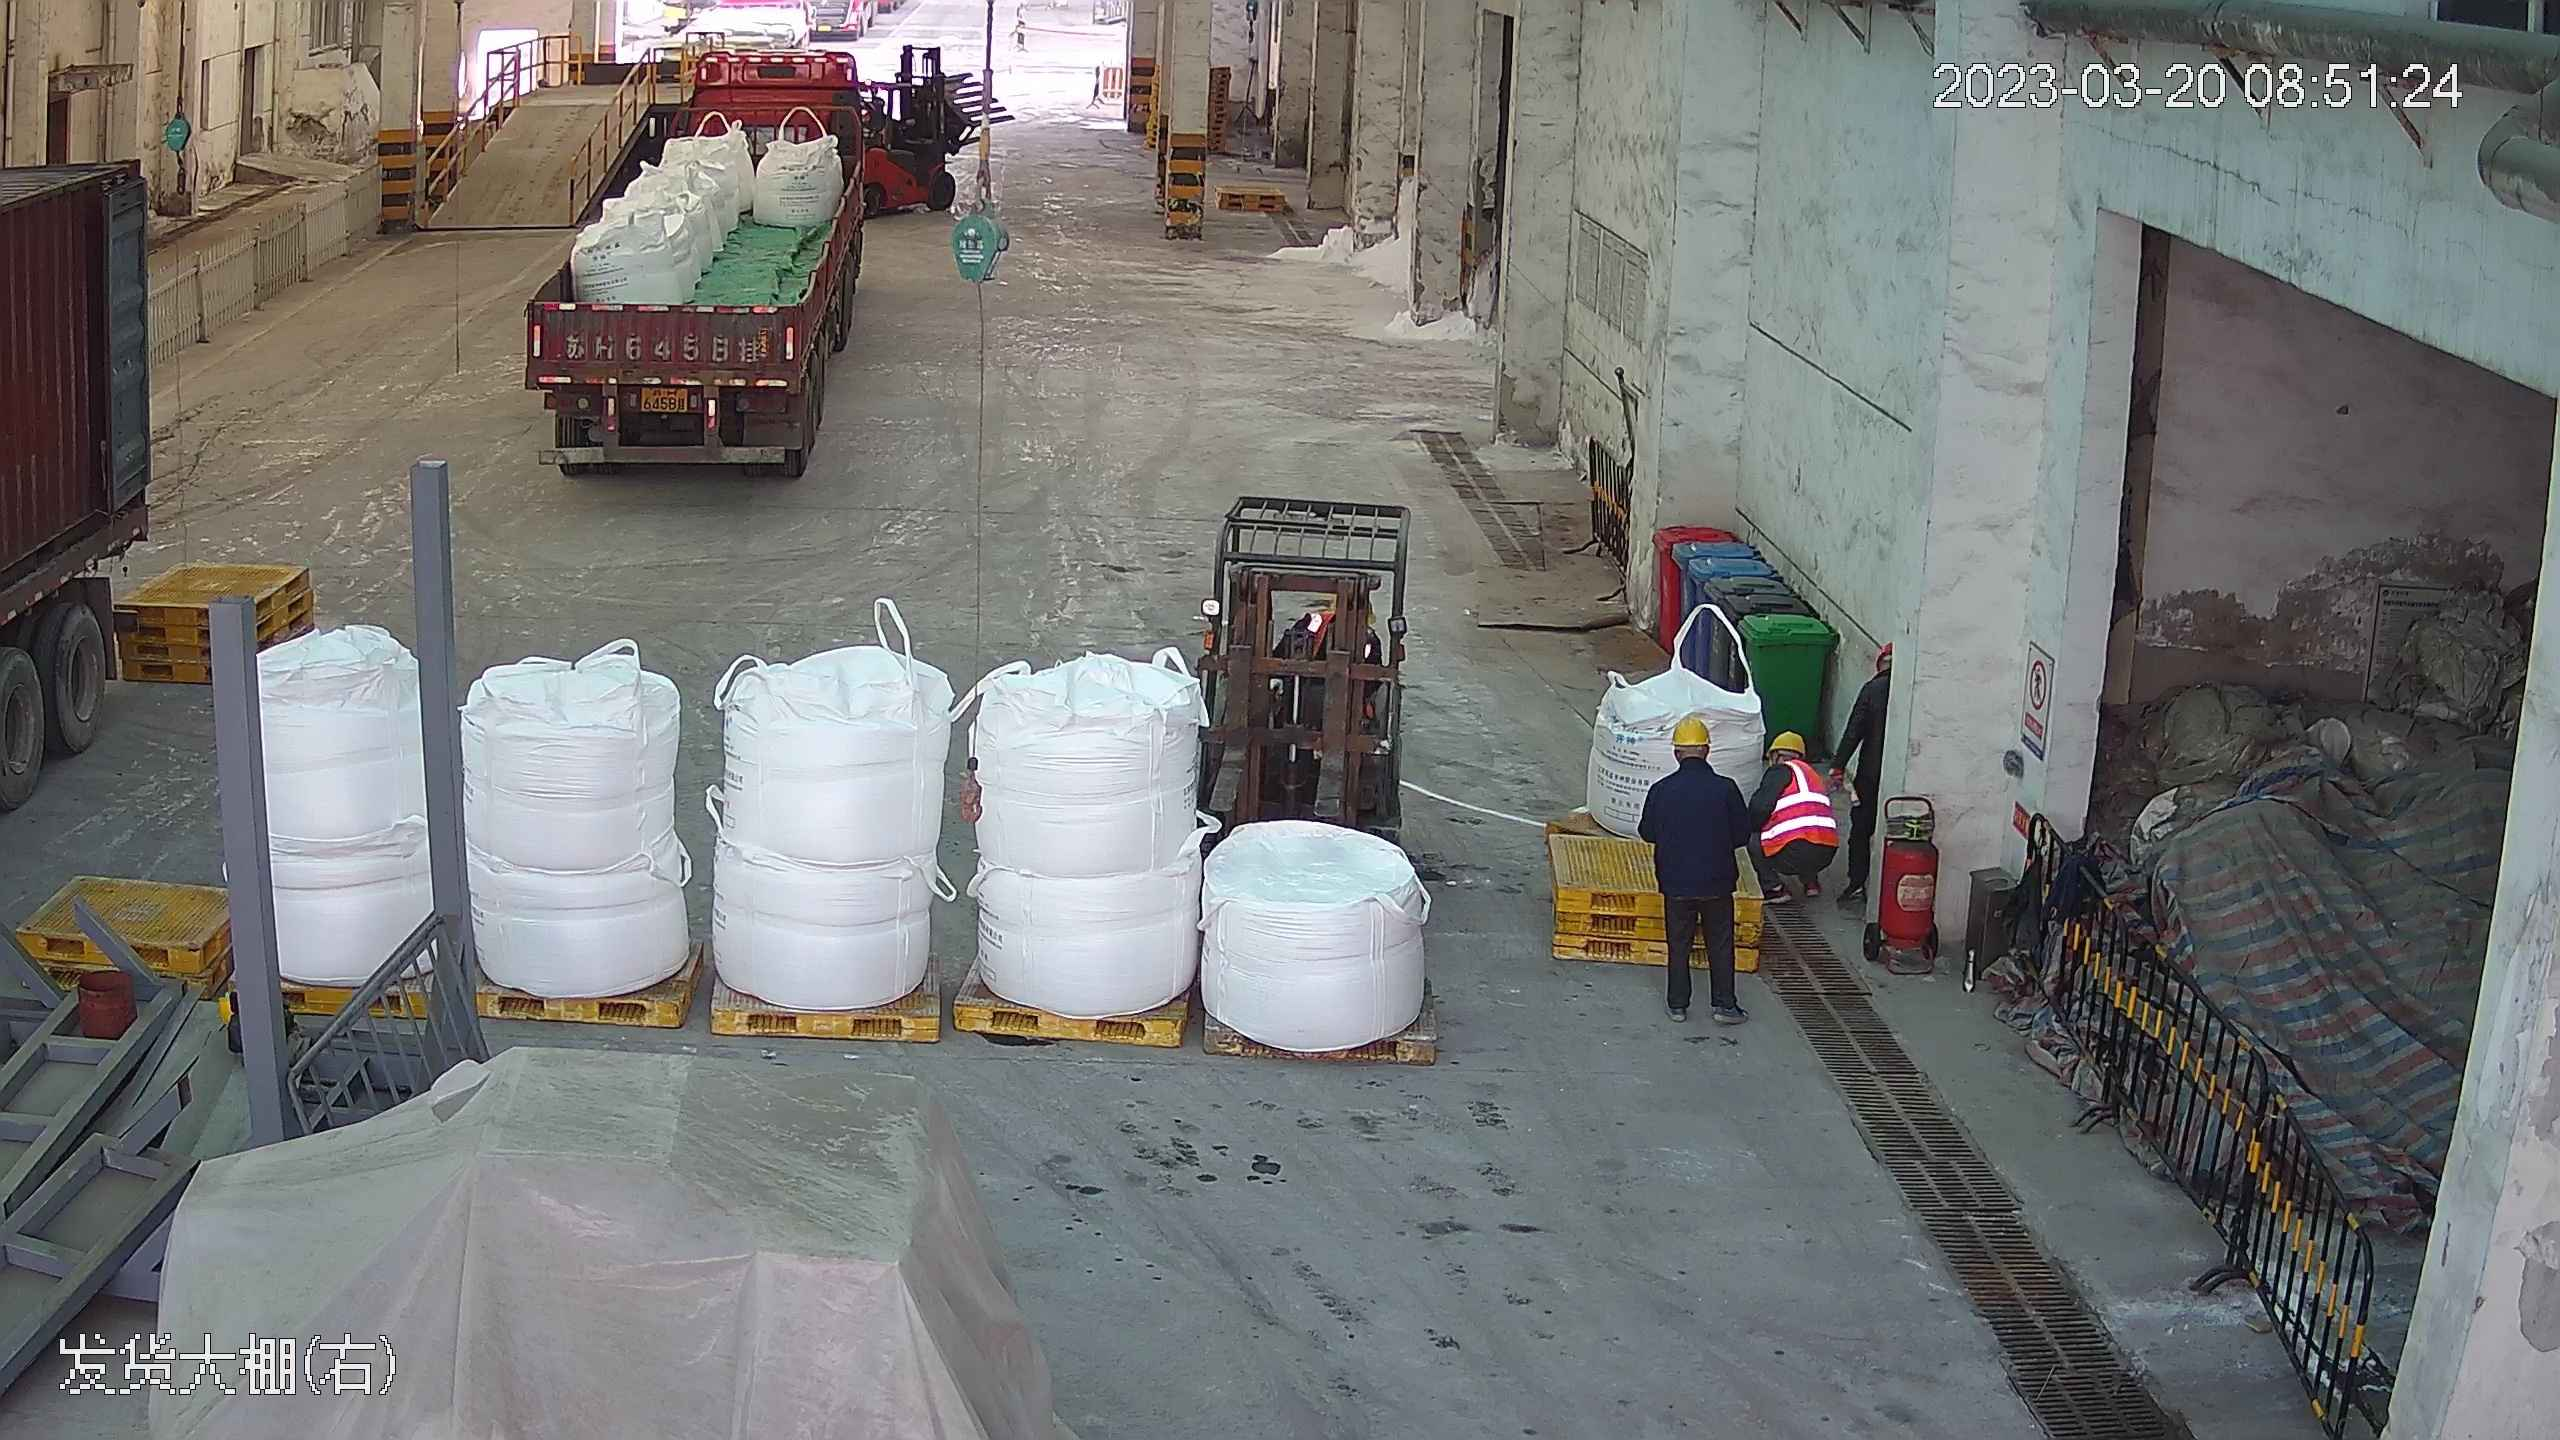head: (1644, 713, 1737, 804), (1758, 729, 1824, 799)
helmet: (1668, 714, 1715, 747), (1767, 729, 1807, 760)
people: (1636, 708, 1751, 1025), (1750, 720, 1838, 920), (1835, 635, 1895, 882)
truck: (512, 31, 871, 481), (1, 21, 178, 920)
